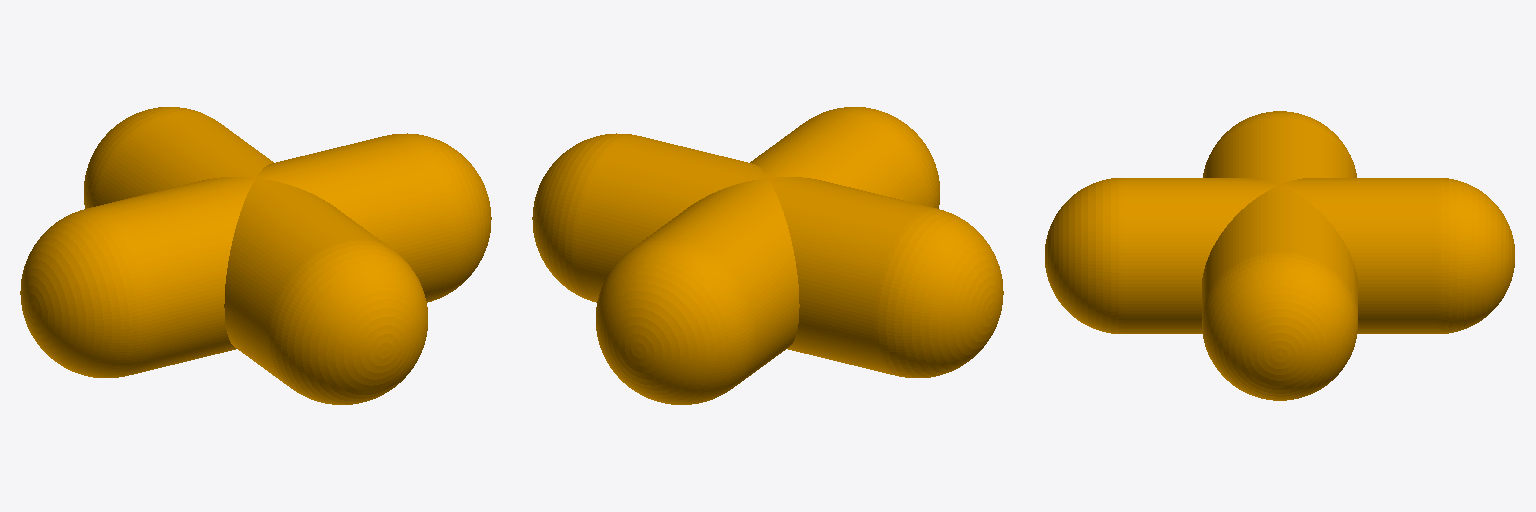
URDF robot description (object):
<?xml version="1.0"?>
<robot name="object">
  <link name="object">
    <visual>
      <origin xyz="0 0 0"/>
      <geometry>
        <mesh filename="meshes/non-convex-param/cross4_2.obj" scale=".08 .08 .08"/>
      </geometry>
    </visual>
    <collision>
  <origin xyz="0 0 0"/>
  <geometry>
    <mesh filename="meshes/non-convex-param/cross4_2_0decompose.obj" scale=".08 .08 .08"/>
<!--          <mesh filename="meshes/custom/obj0_ball.obj" scale=".05 .05 .05"/>-->
  </geometry>
</collision><collision>
  <origin xyz="0 0 0"/>
  <geometry>
    <mesh filename="meshes/non-convex-param/cross4_2_1decompose.obj" scale=".08 .08 .08"/>
<!--          <mesh filename="meshes/custom/obj0_ball.obj" scale=".05 .05 .05"/>-->
  </geometry>
</collision><collision>
  <origin xyz="0 0 0"/>
  <geometry>
    <mesh filename="meshes/non-convex-param/cross4_2_2decompose.obj" scale=".08 .08 .08"/>
<!--          <mesh filename="meshes/custom/obj0_ball.obj" scale=".05 .05 .05"/>-->
  </geometry>
</collision><collision>
  <origin xyz="0 0 0"/>
  <geometry>
    <mesh filename="meshes/non-convex-param/cross4_2_3decompose.obj" scale=".08 .08 .08"/>
<!--          <mesh filename="meshes/custom/obj0_ball.obj" scale=".05 .05 .05"/>-->
  </geometry>
</collision>

<!--    <collision>-->
<!--      <origin xyz="0 0 0"/>-->
<!--      <geometry>-->
<!--        <mesh filename="meshes/non-convex-param/cross4_2.obj" scale=".03 .03 .03"/>-->
<!--&lt;!&ndash;          <mesh filename="meshes/custom/obj0_ball.obj" scale=".05 .05 .05"/>&ndash;&gt;-->
<!--      </geometry>-->
<!--    </collision>-->
    <inertial>
      <density value="1000.0"/>
    </inertial>
  </link>
</robot>

--- Render facts (derived) ---
Views: 3 orthographic renders of the robot side by side, from view 1: azimuth 30°, elevation 25°; view 2: azimuth 150°, elevation 25°; view 3: azimuth 270°, elevation 25°.
Model object with 1 links and 0 joints (none), rooted at object, posed every joint at zero.
Links seen in each view (by area): view 1: object; view 2: object; view 3: object.
Link boxes in pixels (bbox=[...]): object: bbox=[20, 107, 491, 404]; object: bbox=[532, 107, 1003, 404]; object: bbox=[1045, 111, 1514, 400].
Bounding box of the posed robot: 0.1199 × 0.1199 × 0.0399 m (x, y, z).
1 mesh visuals loaded from 1 distinct referenced files (1 OBJ).